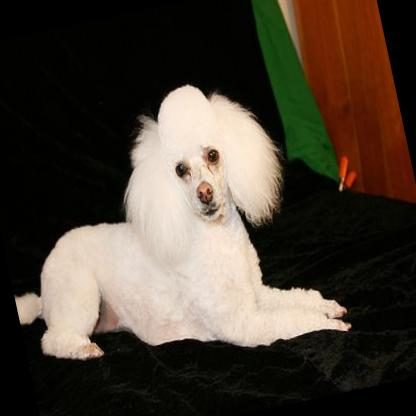miniature_poodle: (0, 57, 353, 396)
